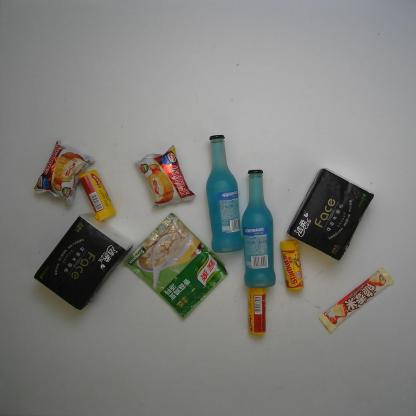Alcohol: (206, 134, 243, 253), (242, 169, 276, 288)
Candy: (79, 169, 116, 222), (280, 238, 304, 291), (247, 288, 268, 336)
Chocolate: (318, 267, 394, 333)
Dessert: (32, 140, 96, 207), (134, 144, 196, 209)
Seasoner: (123, 212, 229, 321)
Tissue: (32, 212, 134, 313), (286, 167, 374, 262)
